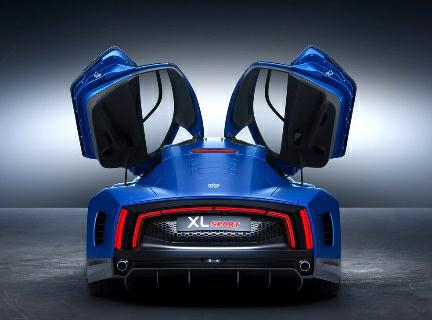大众-XL: (75, 137, 349, 293)
